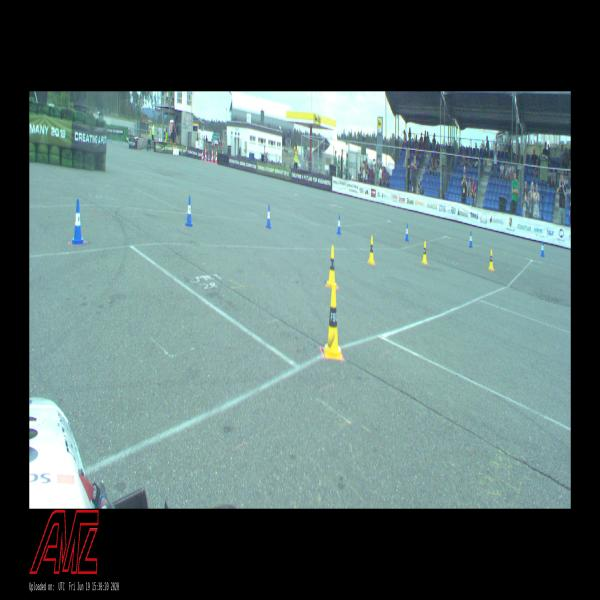blue_cone: (70, 200, 86, 244), (186, 196, 193, 226), (266, 205, 271, 228), (540, 241, 545, 257), (337, 215, 341, 234), (405, 224, 409, 240), (469, 232, 473, 247)
large_orange_cone: (215, 150, 217, 164), (208, 152, 210, 163), (201, 150, 203, 160), (205, 147, 206, 161), (212, 149, 213, 163)
yellow_cone: (324, 284, 342, 360), (326, 245, 337, 289), (368, 236, 375, 264), (488, 250, 494, 270), (422, 241, 427, 264)
